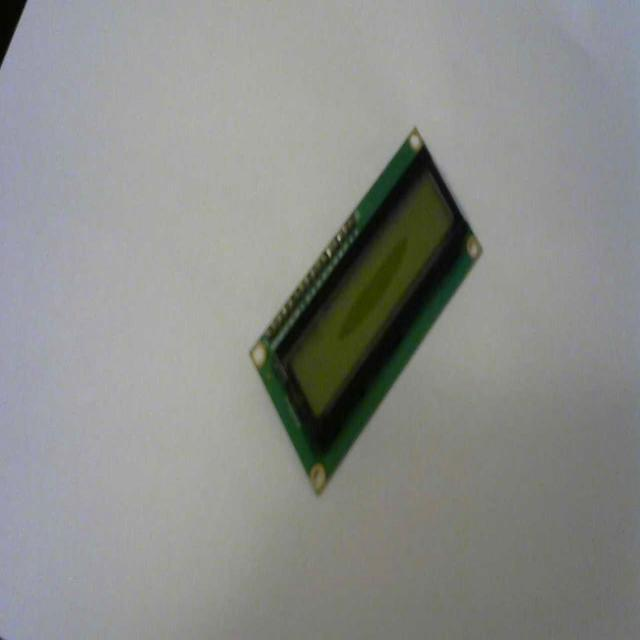lcd: (249, 124, 483, 496)
